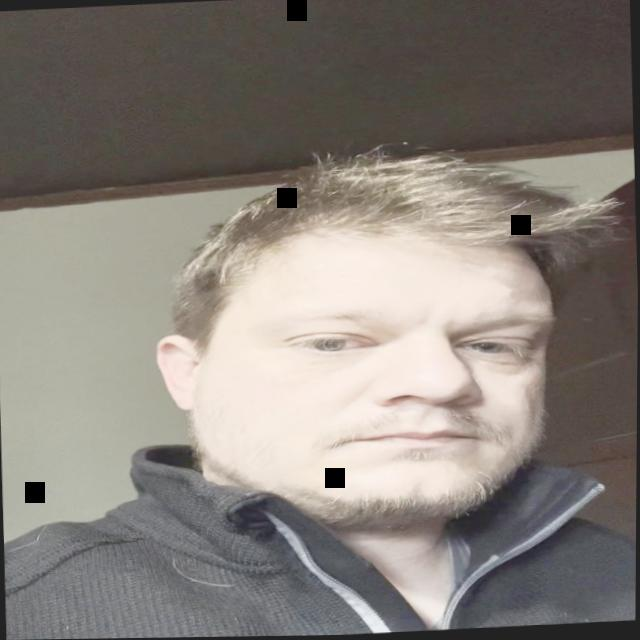NO-Mask: (146, 178, 586, 567)
